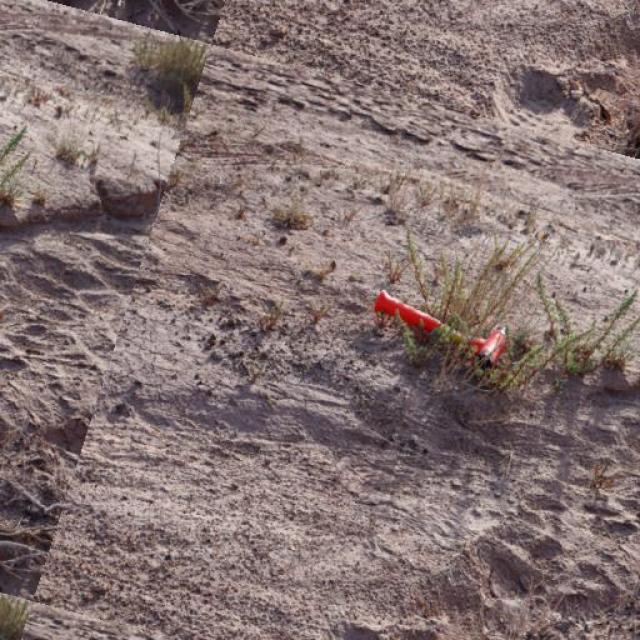mallet: (371, 288, 509, 370)
